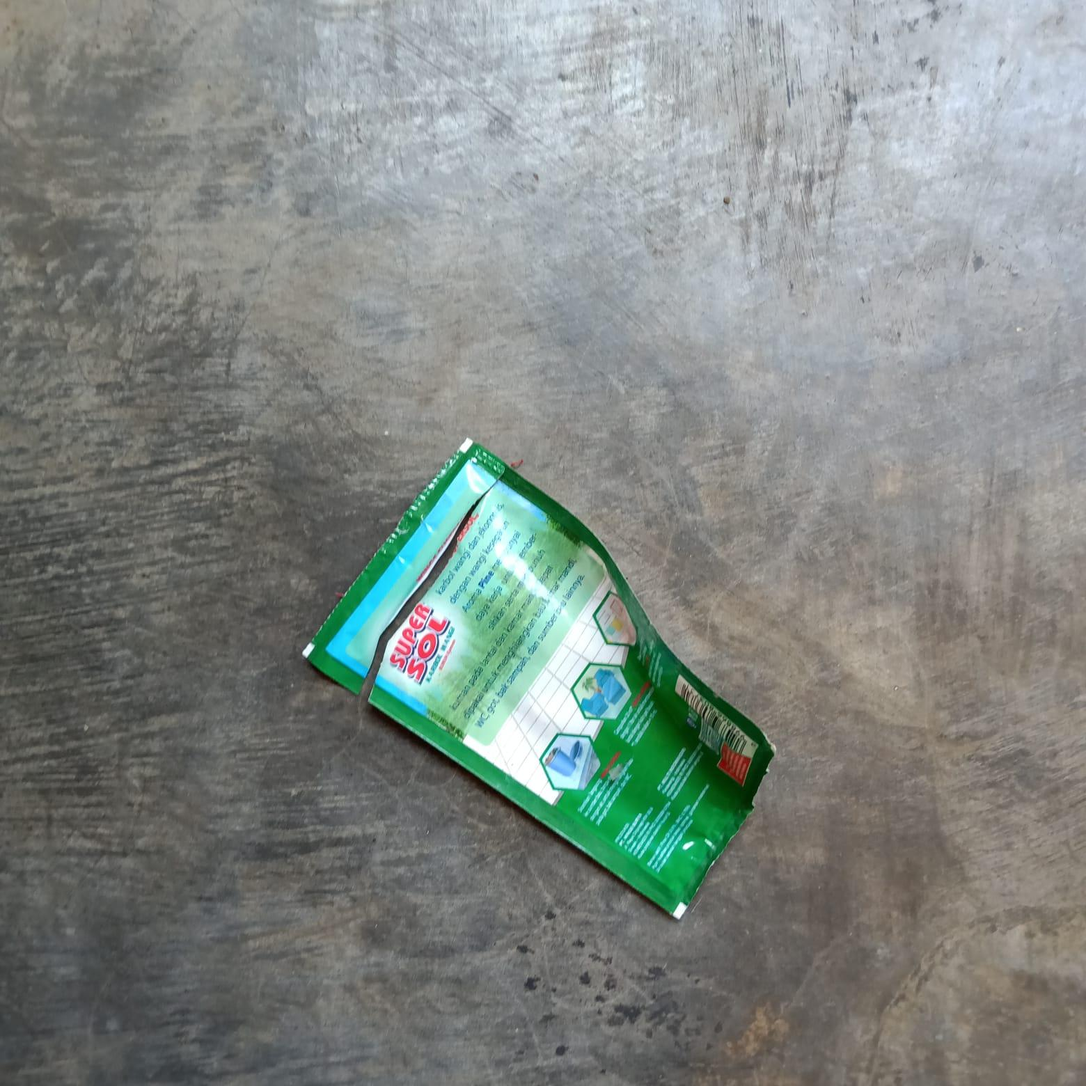Plastik: (303, 435, 776, 922)
